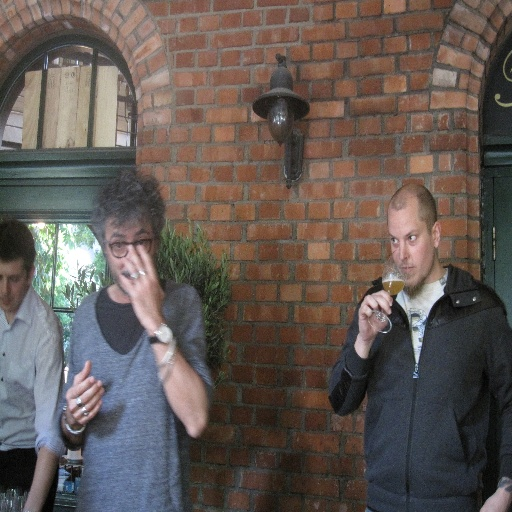hand: (115, 241, 165, 328), (63, 356, 106, 427), (360, 288, 402, 347), (478, 491, 511, 511)
